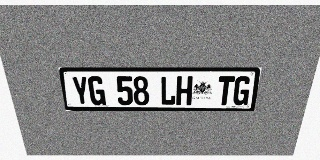5: (116, 76, 133, 105)
8: (133, 76, 149, 105)
G: (232, 76, 252, 105), (87, 76, 106, 105)
H: (176, 76, 193, 105)
L: (160, 76, 176, 105)
T: (216, 76, 235, 105)
Y: (71, 76, 90, 105)
